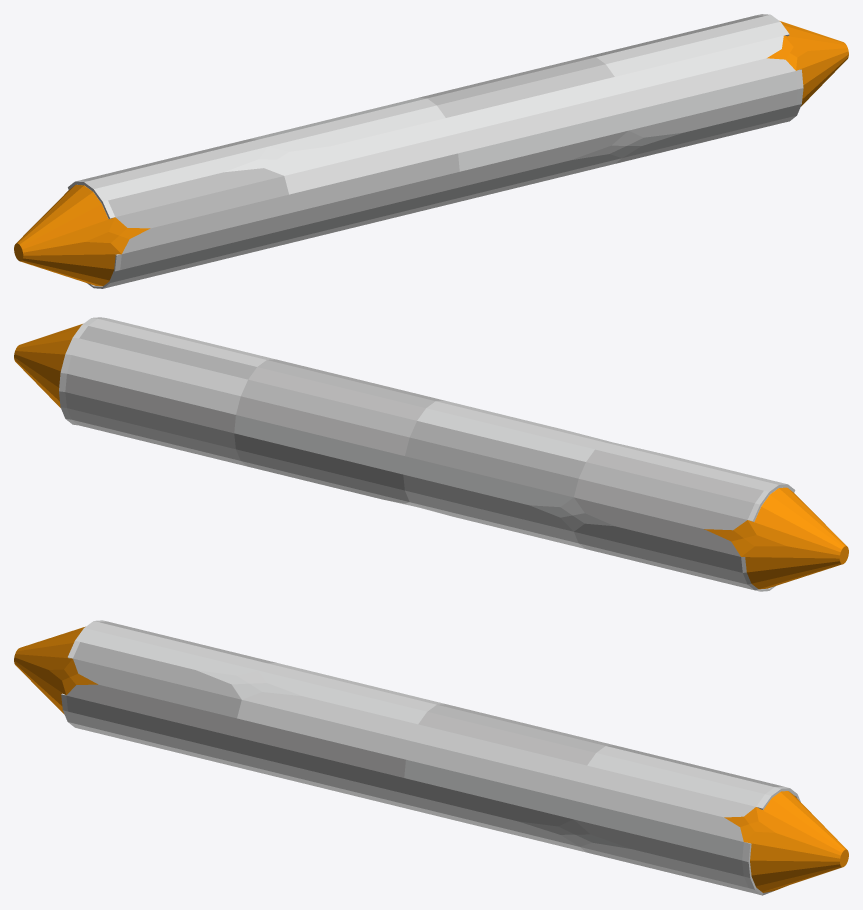
Rendered from Log_5.fbx.
3 renders of one model, top to bottom at view 1: azimuth 30°, elevation 25°; view 2: azimuth 150°, elevation 25°; view 3: azimuth 330°, elevation 25°, orthographic.
Visible parts, largest first — view 1: Circle.210; view 2: Circle.210; view 3: Circle.210.
Boxes of the visible parts, x1,y1,x2,y2 form: Circle.210: (14, 14, 848, 288); Circle.210: (14, 317, 848, 591); Circle.210: (14, 620, 848, 895).
Bounding box in the file's own units: 220 × 25.3 × 25.71.
